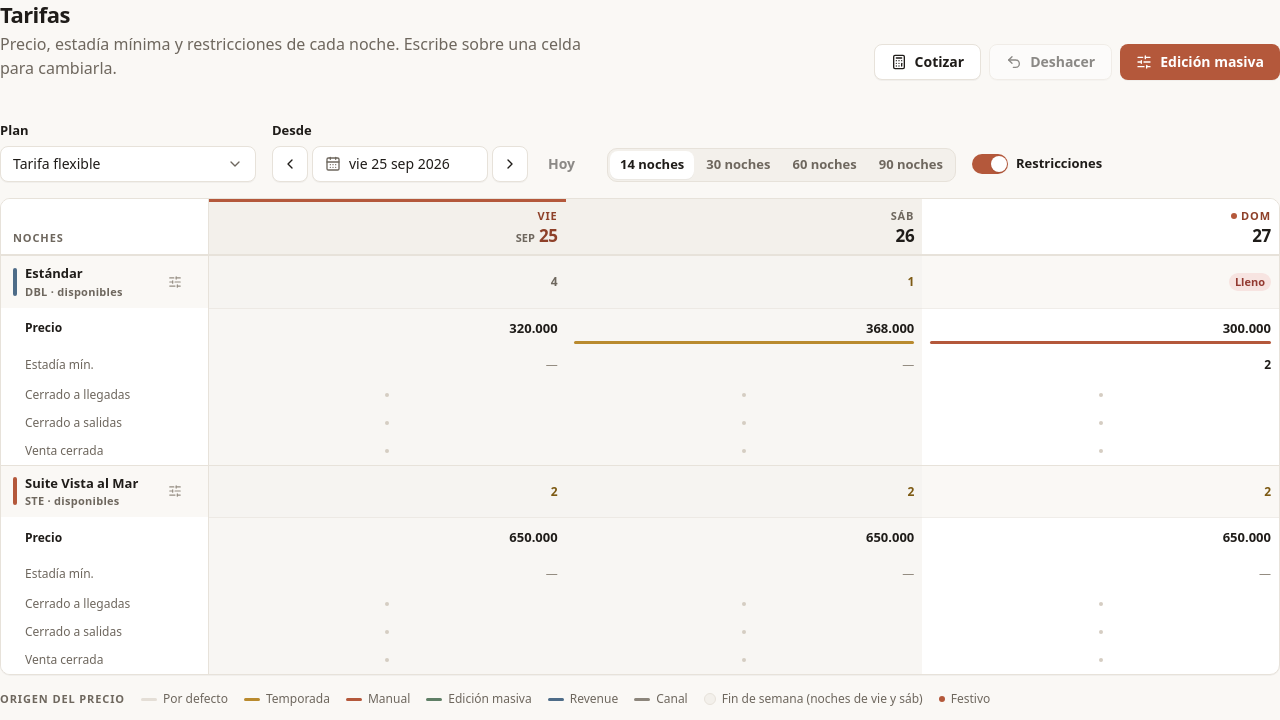
Test: quote tester › prices a stay night by night with the promo, taxes and total
This screenshot has width=1280, height=720.
Click the button "Cotizar": [927, 62] box [874,44,981,80]
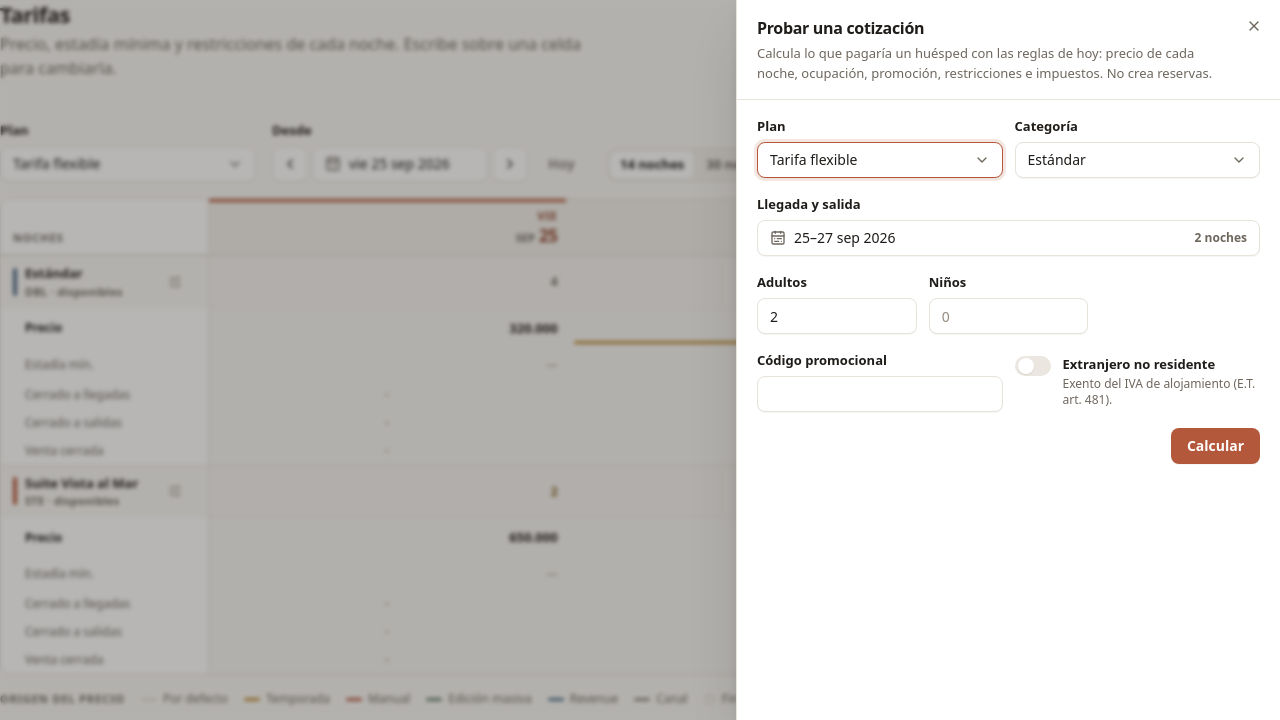
Replace the text in the field labelled "Adultos" with "3": [837, 316] box [757,298,917,334]
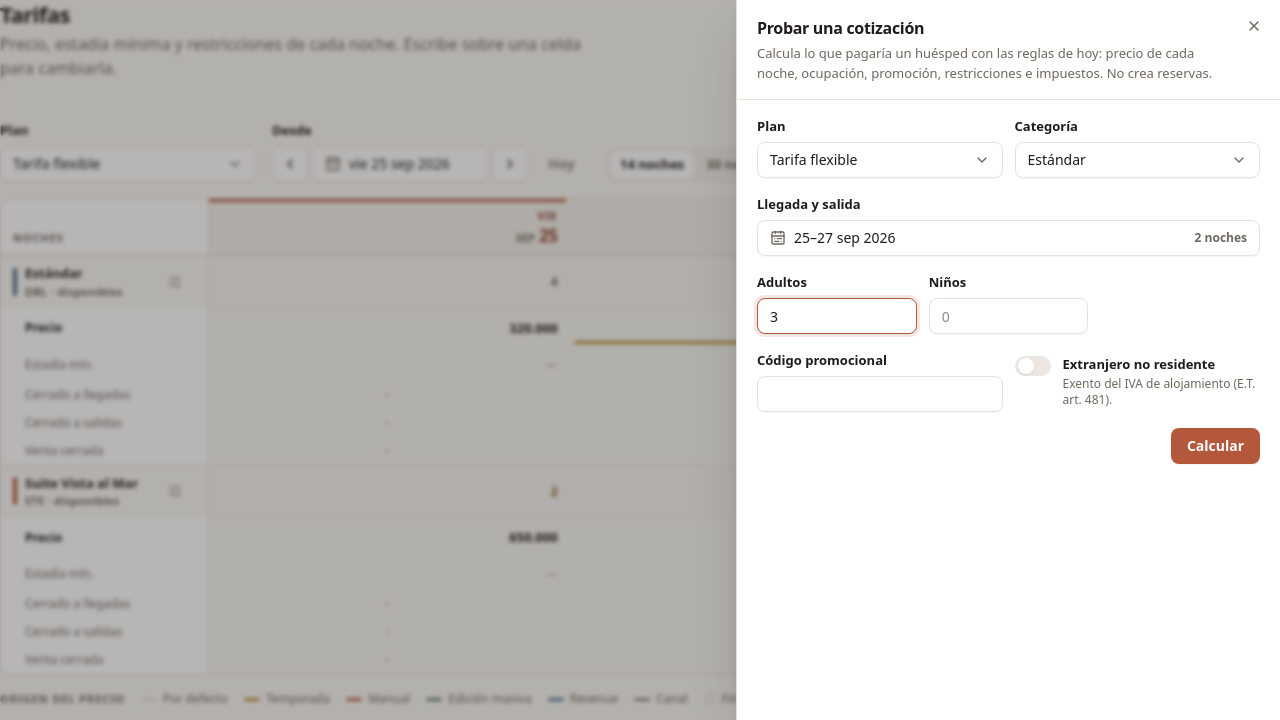
In the field labelled "Código promocional": [880, 394] box [757,376,1002,412], type "bienvenida10"
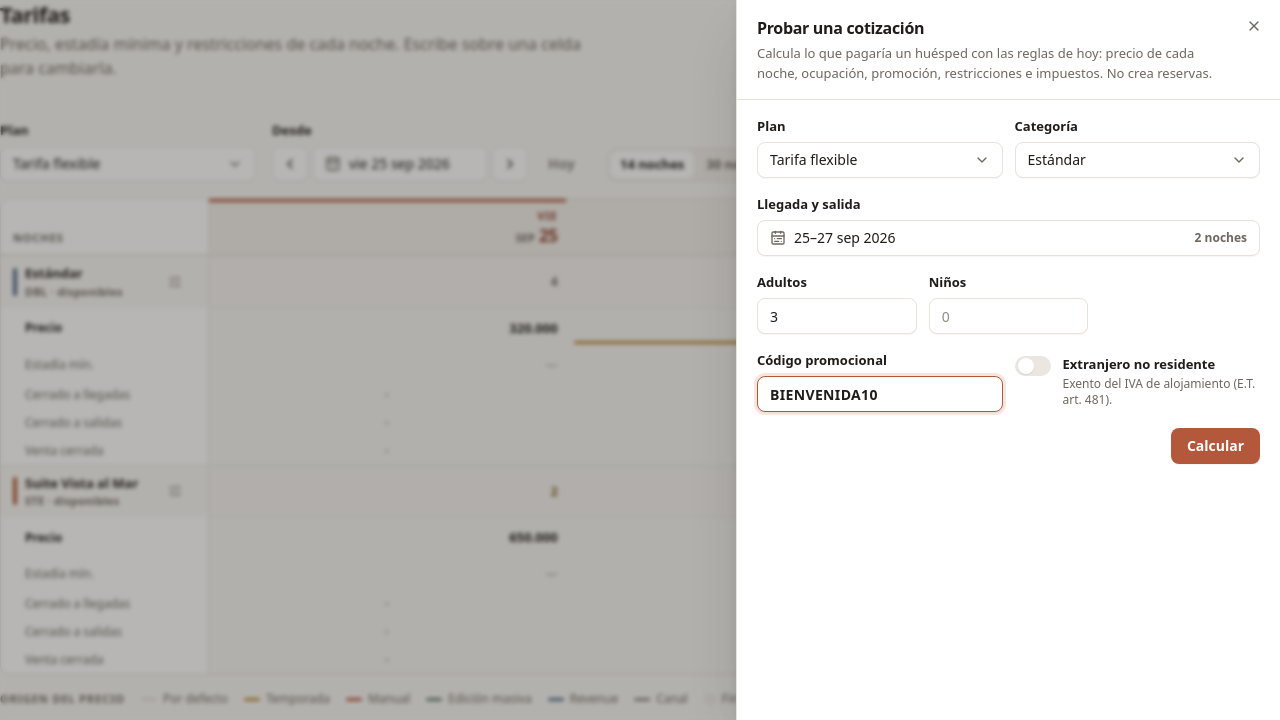
Click the button "Calcular": [1215, 446] box [1171,428,1260,464]
(page scrolled)
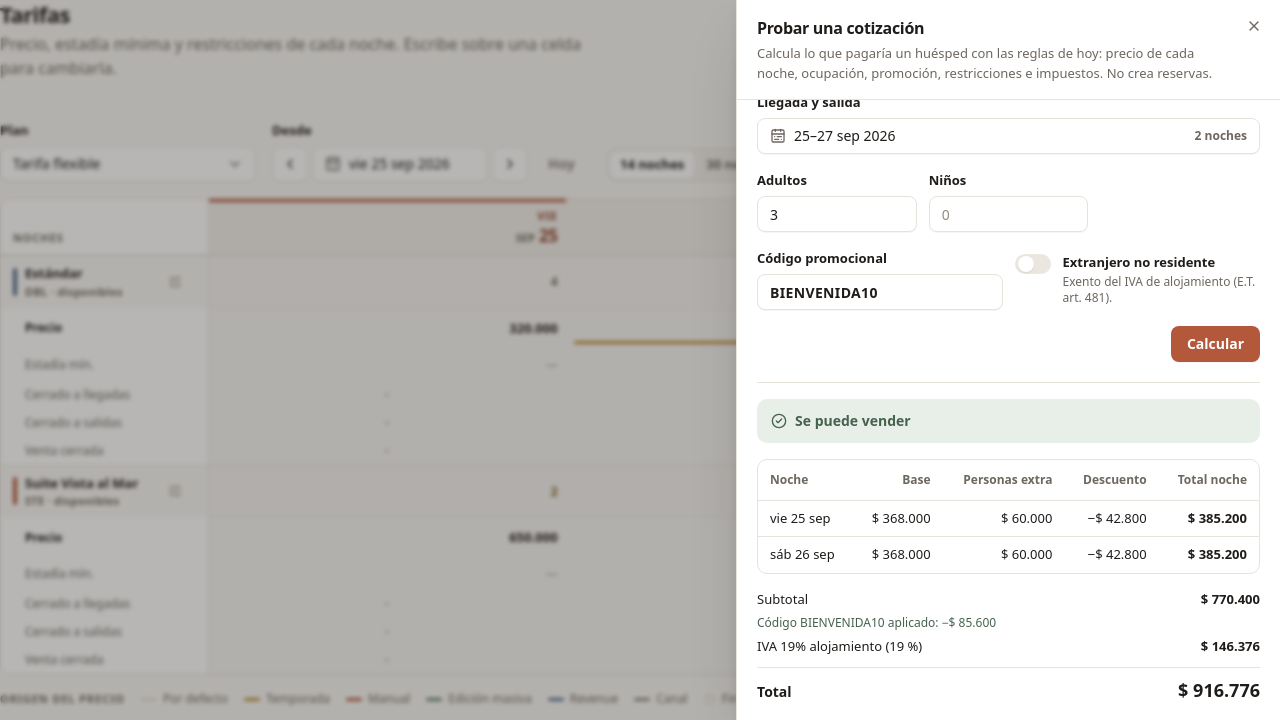
Now the text "Se puede vender" is shown, box [771,411,911,430]
Now the text "Código BIENVENIDA10 aplicado: −$ 85.600" is shown, box [757,614,996,631]
Now the text "IVA 19% alojamiento (19 %)" is shown, box [757,637,922,655]
